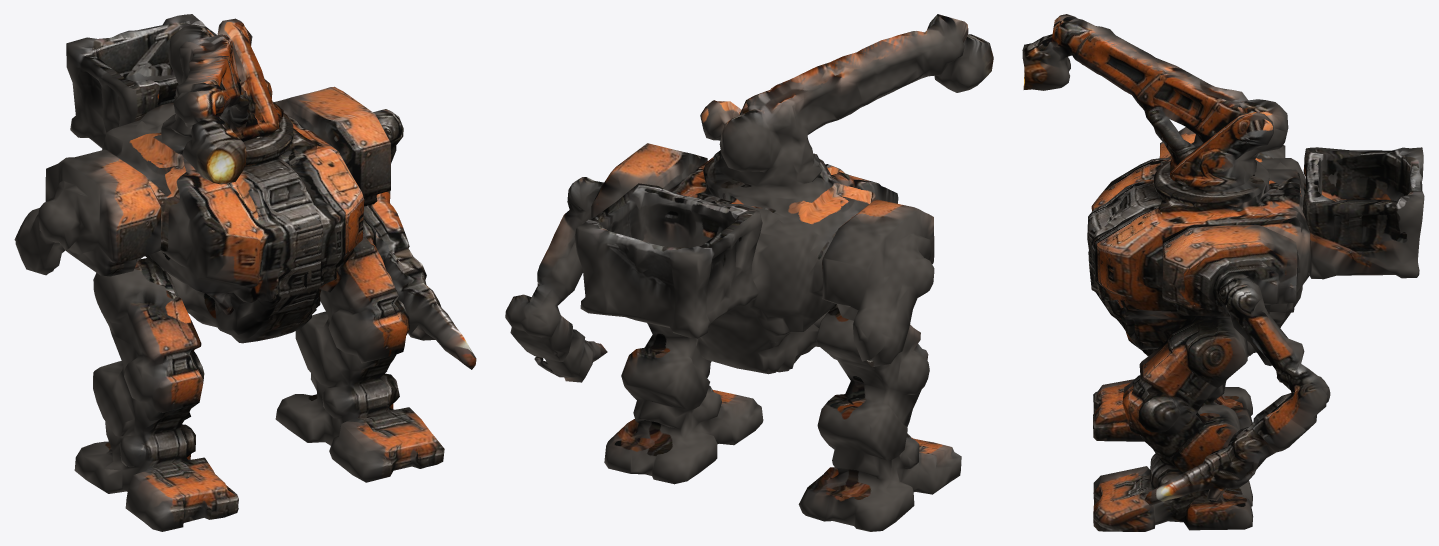
Rendered from riveter_lod1.glb.
3 renders of one model, left to right at view 1: azimuth 30°, elevation 25°; view 2: azimuth 150°, elevation 25°; view 3: azimuth 270°, elevation 25°, orthographic. The views are drawn at different scales.
Visible parts, largest first — view 1: geometry_0; view 2: geometry_0; view 3: geometry_0.
Part boxes in pixels (left/top/right/bottom): geometry_0: left=14, top=14, right=476, bottom=531; geometry_0: left=505, top=14, right=993, bottom=531; geometry_0: left=1022, top=14, right=1424, bottom=531.
Size of the model in its own units: 1.84 by 1.99 by 1.81.
1 material, 1 textured.
